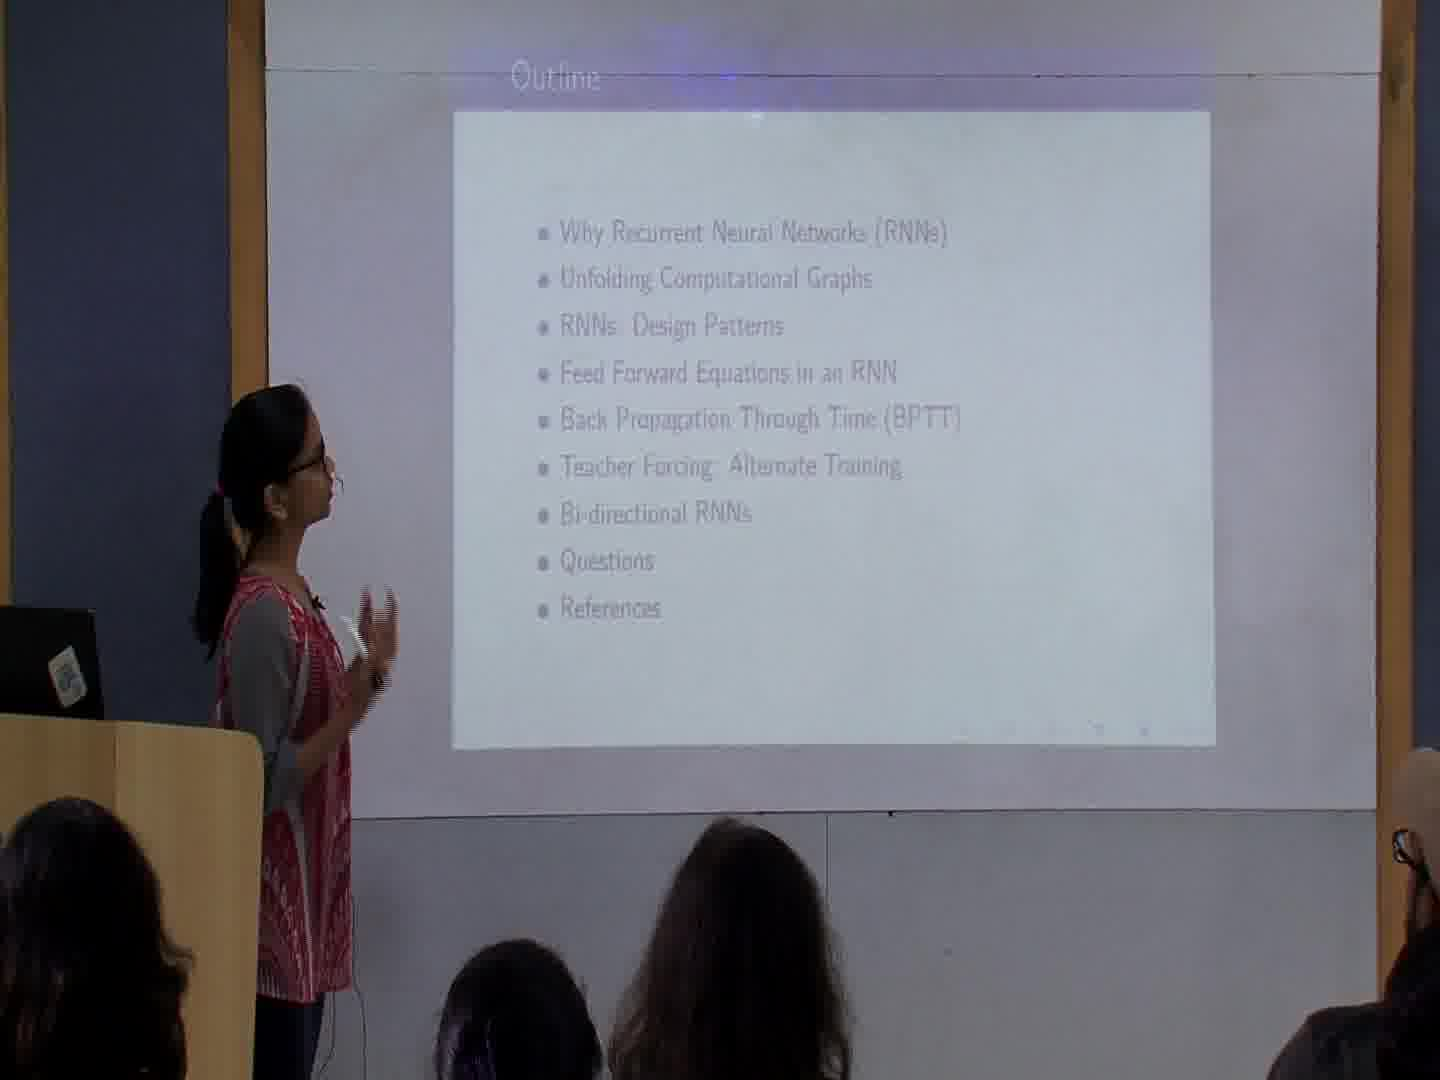slide: (452, 48, 1215, 744)
